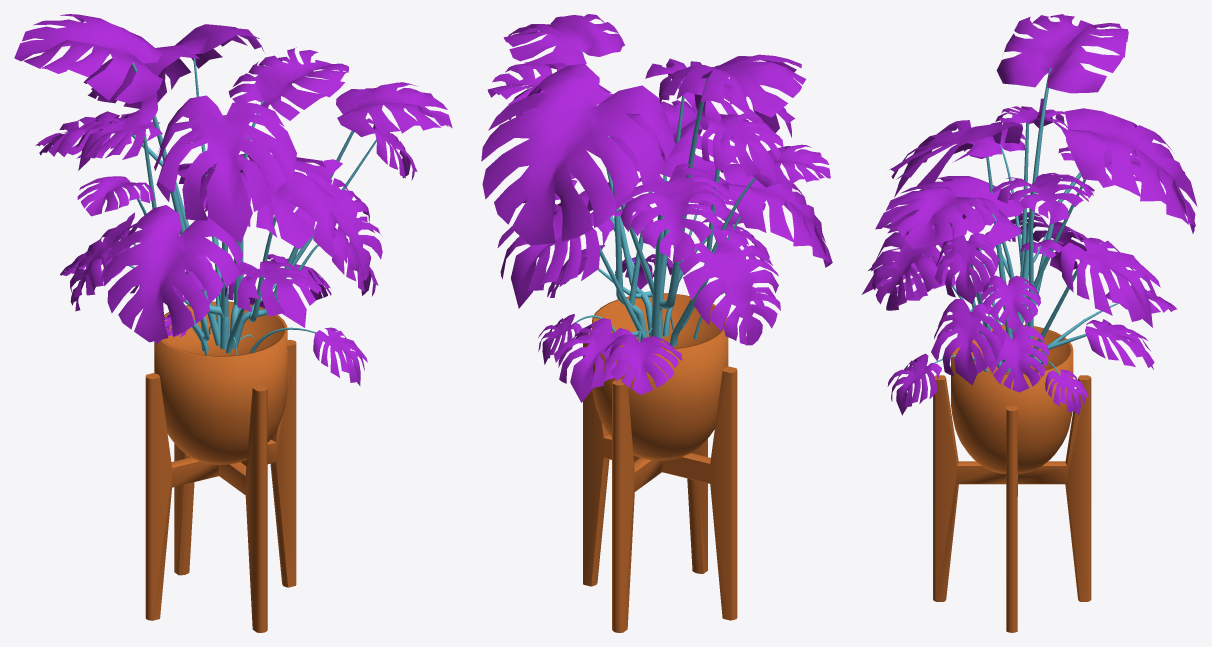
Rendered from Sketchfab_Ready_Monstera.fbx.
3 views of the same model, side by side, from view 1: azimuth 30°, elevation 25°; view 2: azimuth 150°, elevation 25°; view 3: azimuth 270°, elevation 25° (orthographic). The views are drawn at different scales.
Parts seen in each view (by area): view 1: Leaves, Stand, Pot_LP, root_HP_1; view 2: Leaves, Stand, Pot_LP, root_HP_1; view 3: Leaves, Stand, Pot_LP, root_HP_1.
Part boxes in pixels (x1,y1,x2,y2): Leaves: (14, 14, 452, 385); Stand: (145, 339, 296, 632); Pot_LP: (154, 301, 287, 464); root_HP_1: (129, 58, 376, 355); Leaves: (481, 14, 832, 402); Stand: (583, 333, 737, 632); Pot_LP: (592, 293, 728, 460); root_HP_1: (575, 51, 755, 346); Leaves: (861, 14, 1197, 415); Stand: (933, 375, 1091, 632); Pot_LP: (951, 324, 1073, 473); root_HP_1: (933, 68, 1118, 375).
Size of the model in its own units: 101 by 158 by 91.62.
